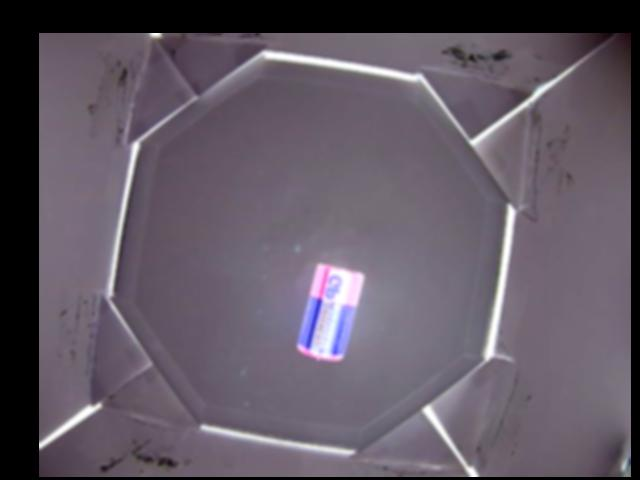Battery: (296, 261, 364, 362)
